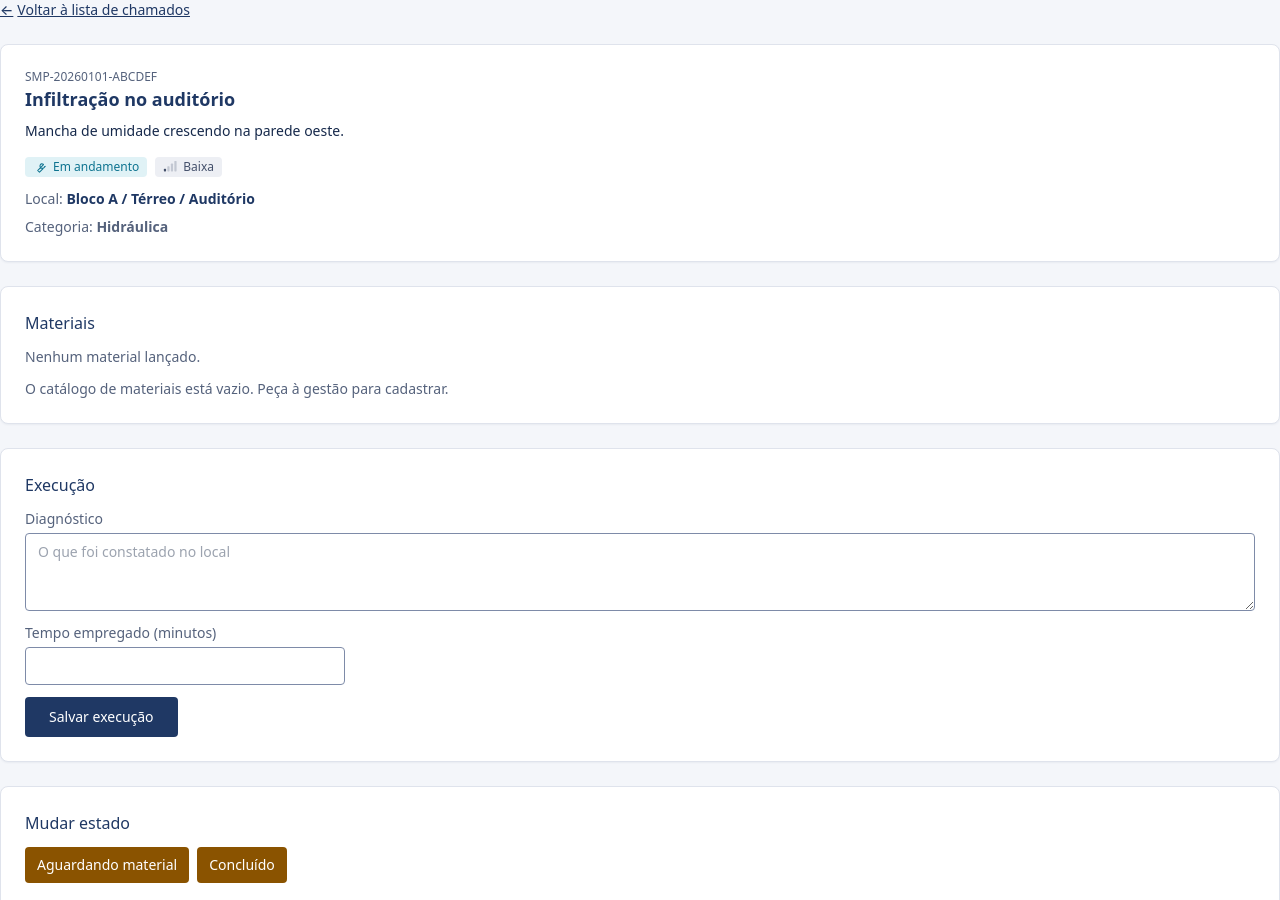
it: Conclusão com confirmação de EPI › desistir zera a caixa: a próxima conclusão começa desmarcada
Expected: the heading "Infiltração no auditório" is shown, x1=25 y1=85 x2=235 y2=113
Click the button "Concluído": (242, 865) x1=197 y1=847 x2=287 y2=883
(page scrolled)
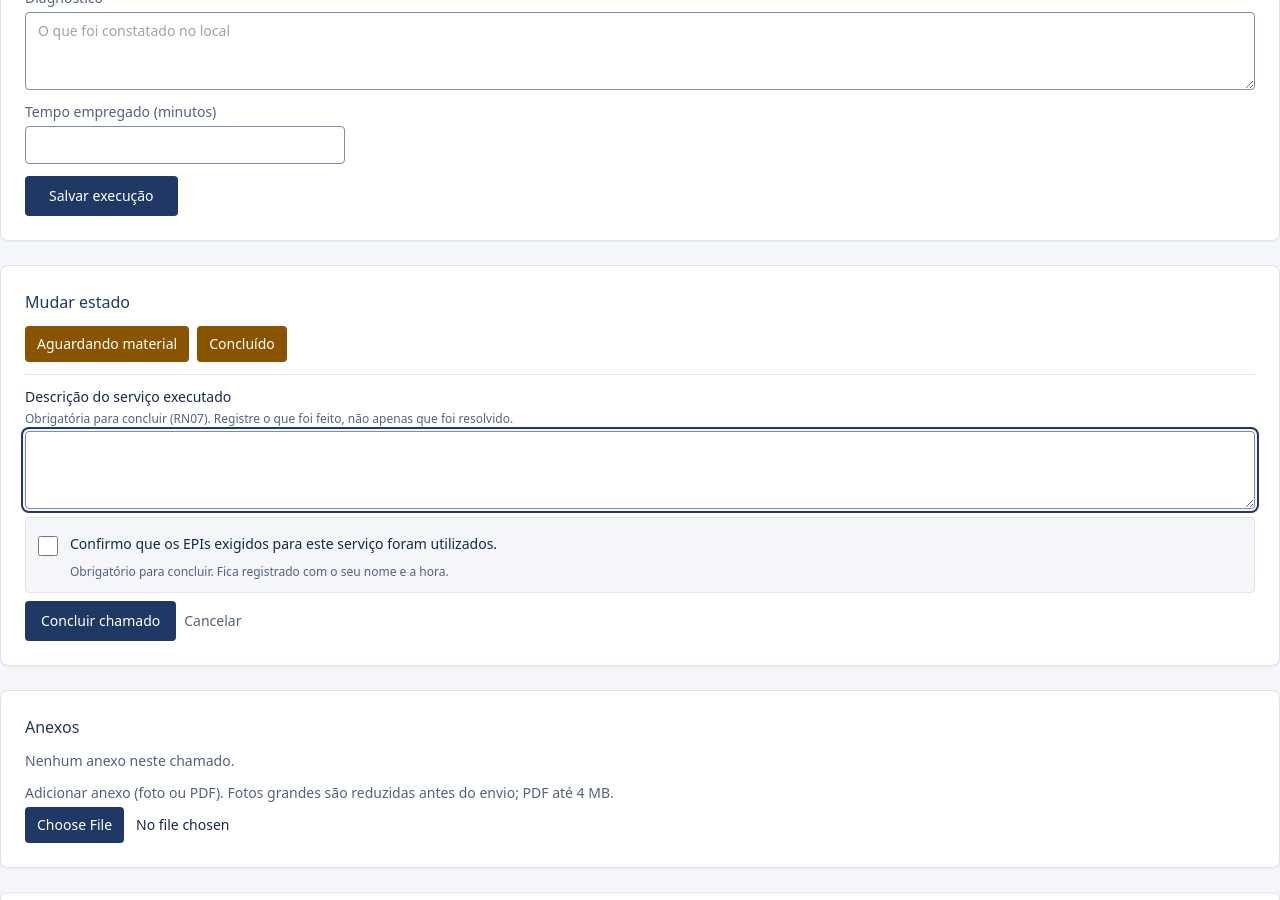
Click the checkbox labelled "EPIs exigidos para este serviço": (48, 546) x1=38 y1=536 x2=58 y2=556
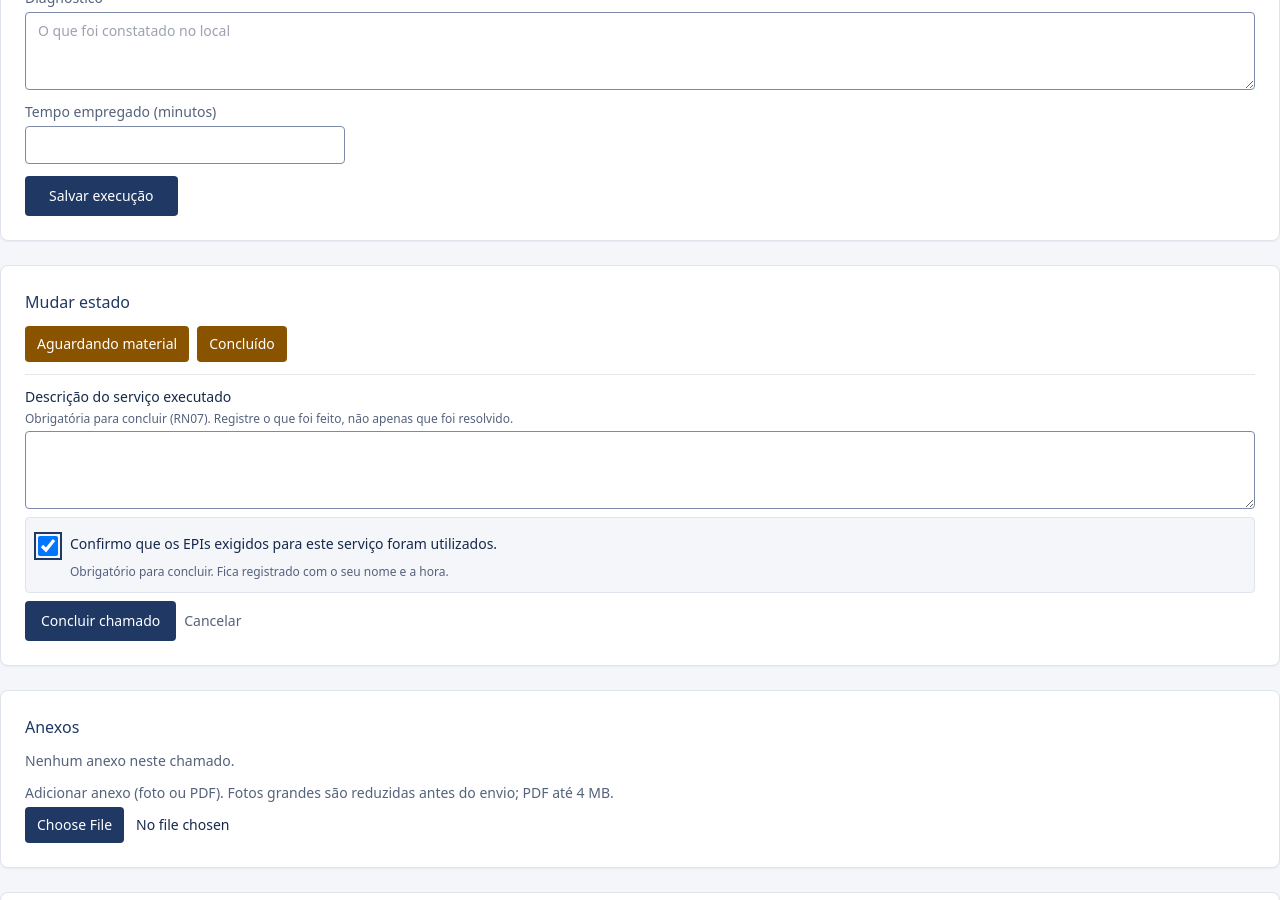
Now the checkbox labelled "EPIs exigidos para este serviço" is checked, box x1=38 y1=536 x2=58 y2=556
Click the button "Cancelar": (213, 621) x1=184 y1=601 x2=242 y2=641
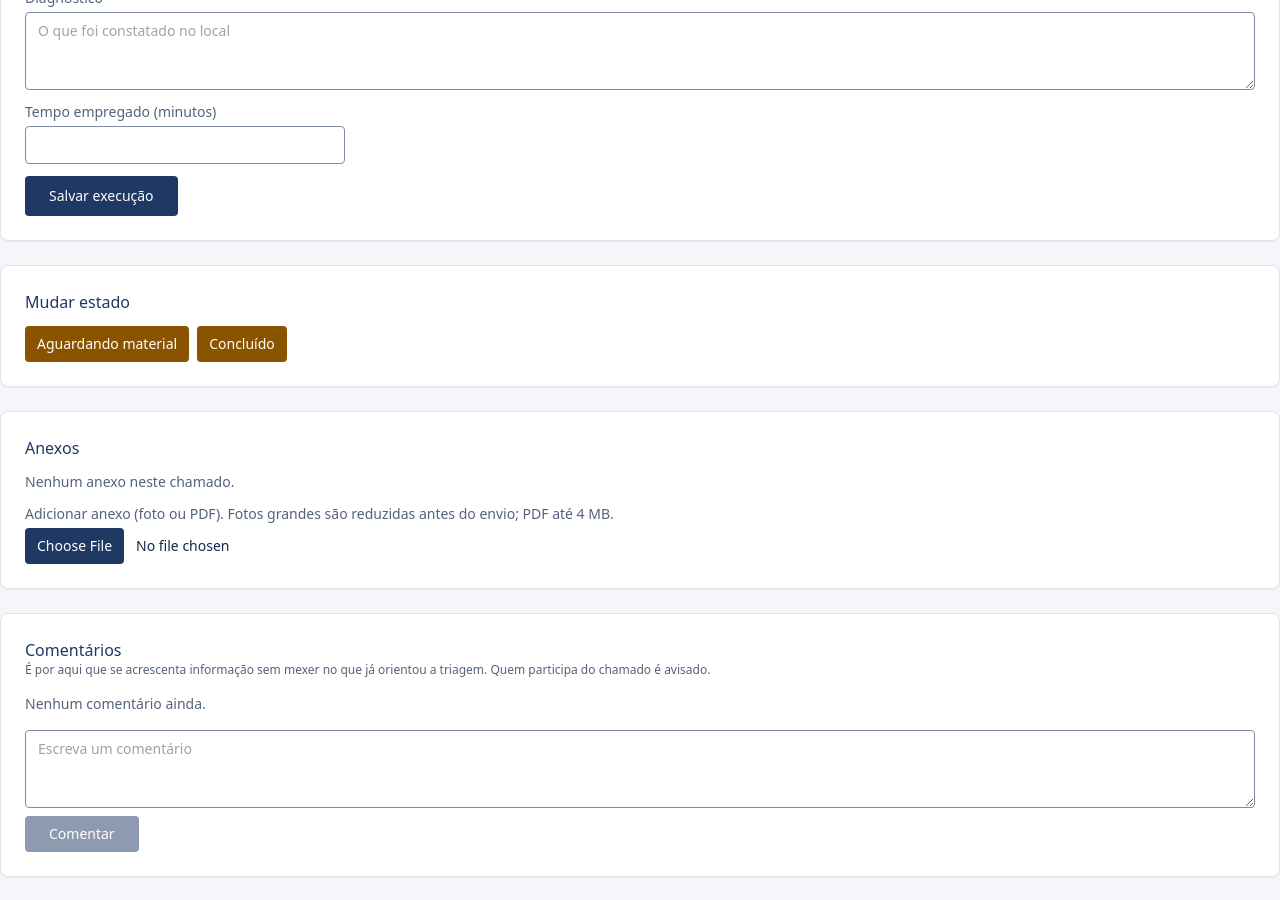
Click the button "Concluído": (242, 344) x1=197 y1=326 x2=287 y2=362
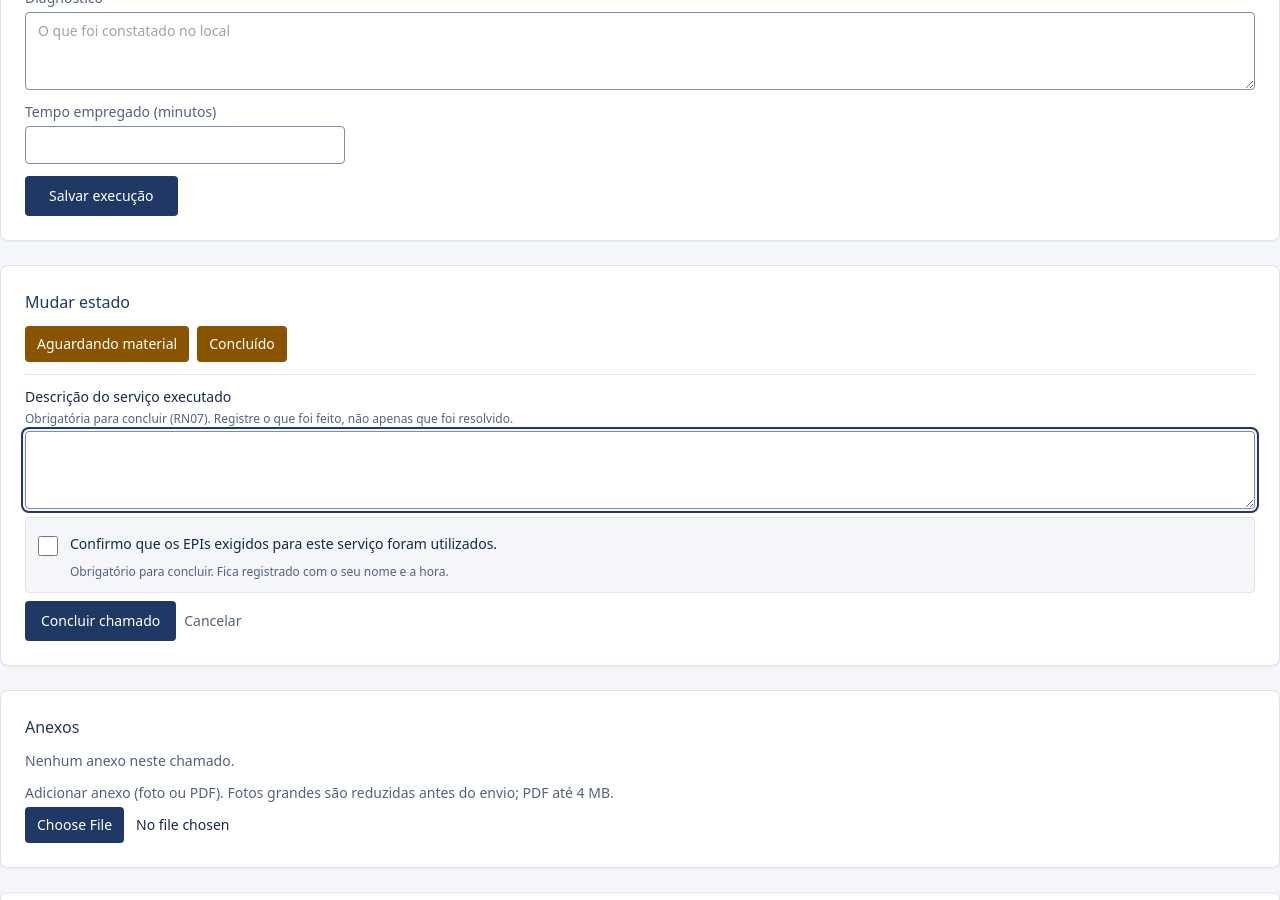
Now the checkbox labelled "EPIs exigidos para este serviço" is not checked, box x1=38 y1=536 x2=58 y2=556
